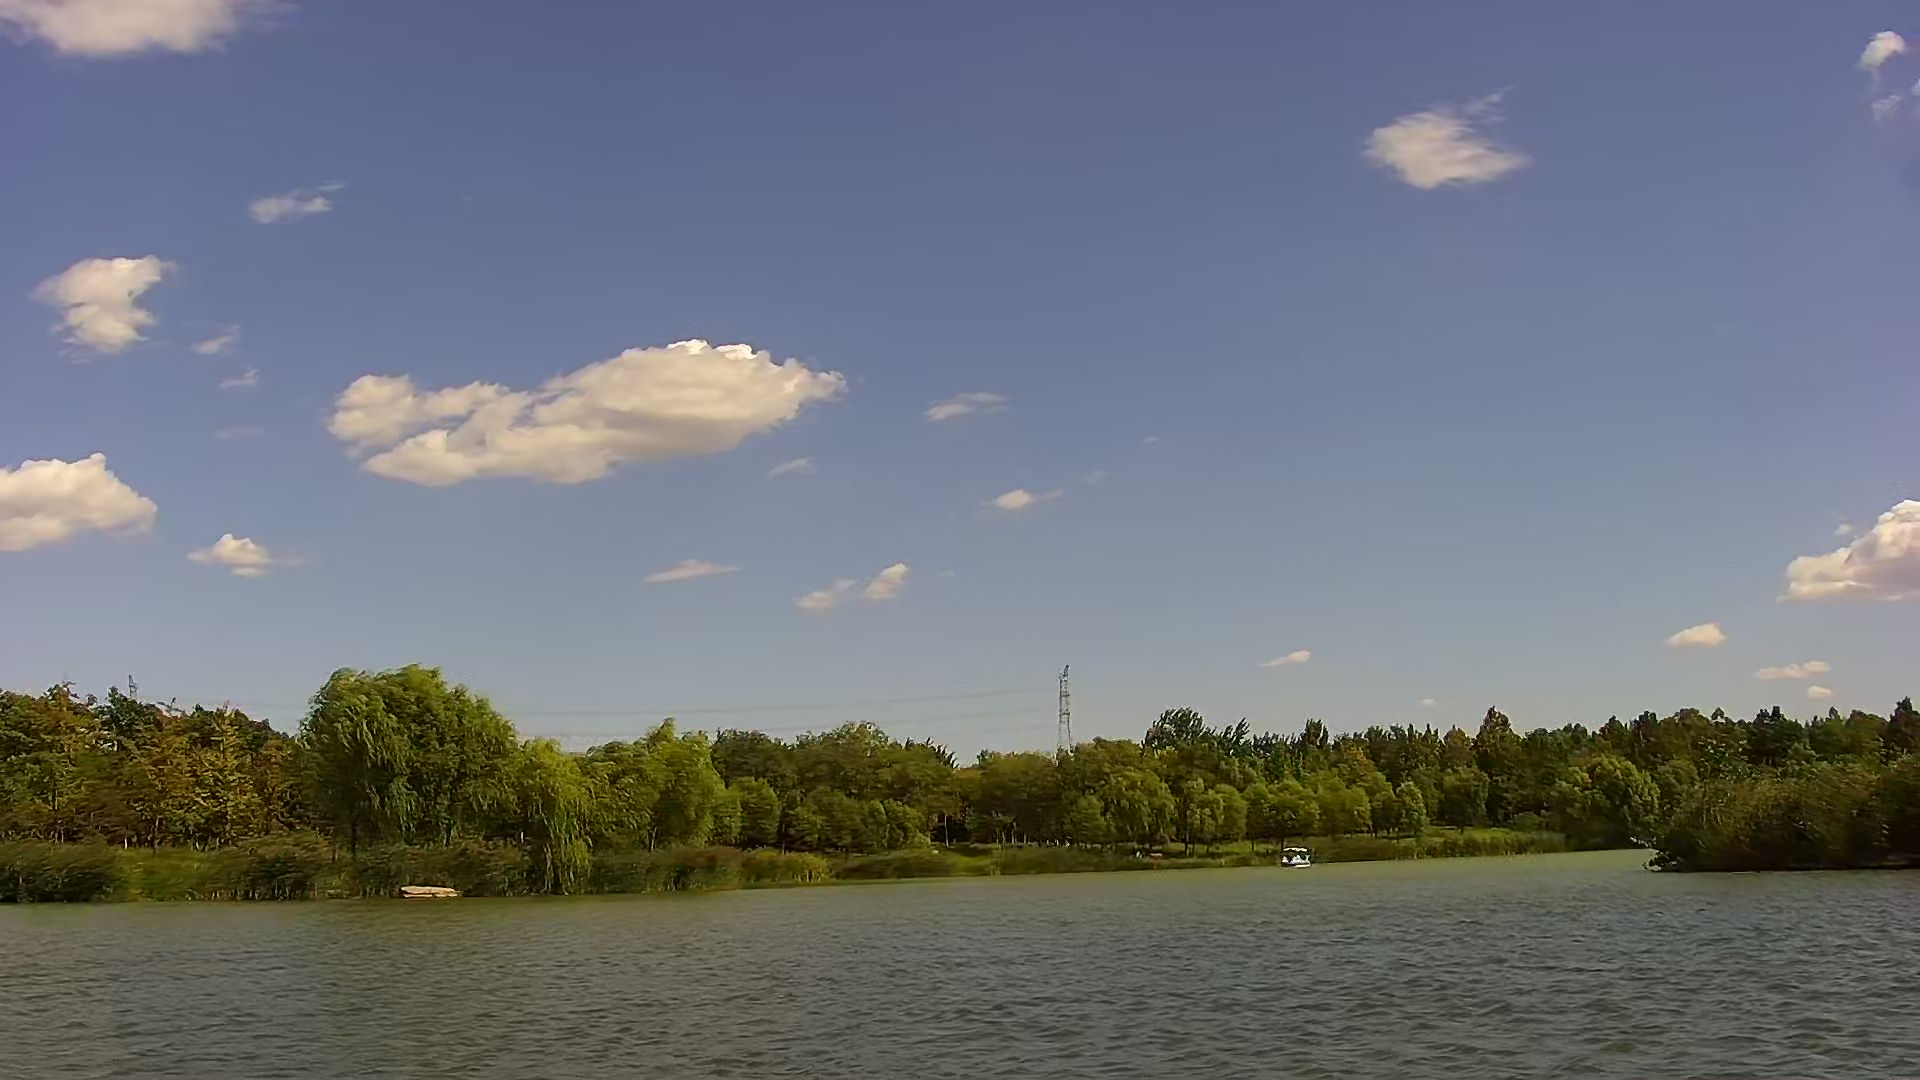boat: (1282, 847, 1308, 864)
rock: (397, 880, 459, 905)
